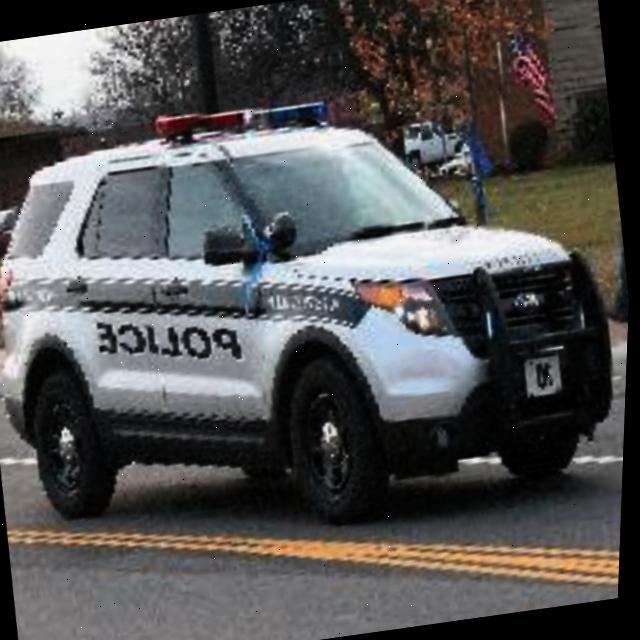emergency: (0, 58, 630, 560)
